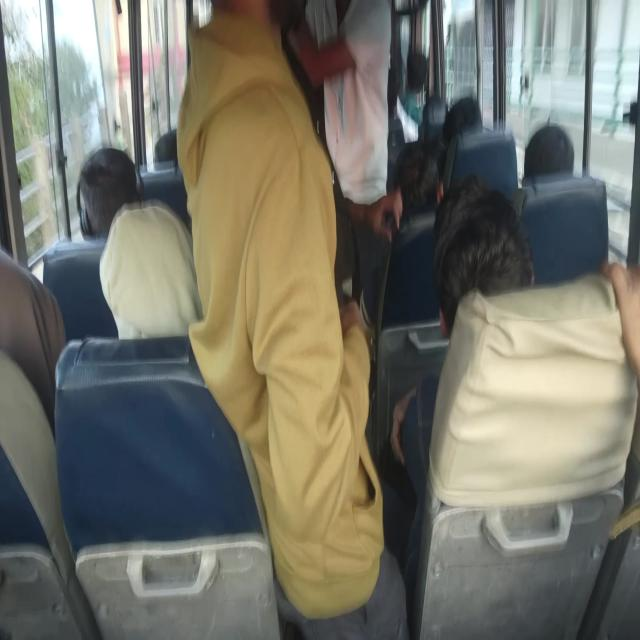person: (193, 8, 334, 410), (110, 204, 226, 377), (299, 0, 385, 206), (442, 186, 523, 312), (80, 148, 154, 258), (0, 257, 56, 365), (373, 41, 415, 152), (397, 153, 451, 225), (528, 124, 578, 191), (152, 118, 204, 180), (448, 98, 502, 152), (409, 46, 439, 104)
